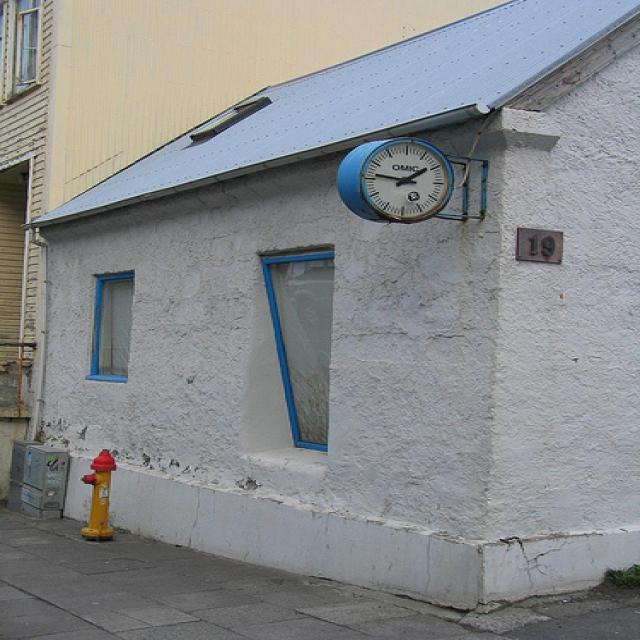fire_hydrant: (80, 448, 118, 541)
